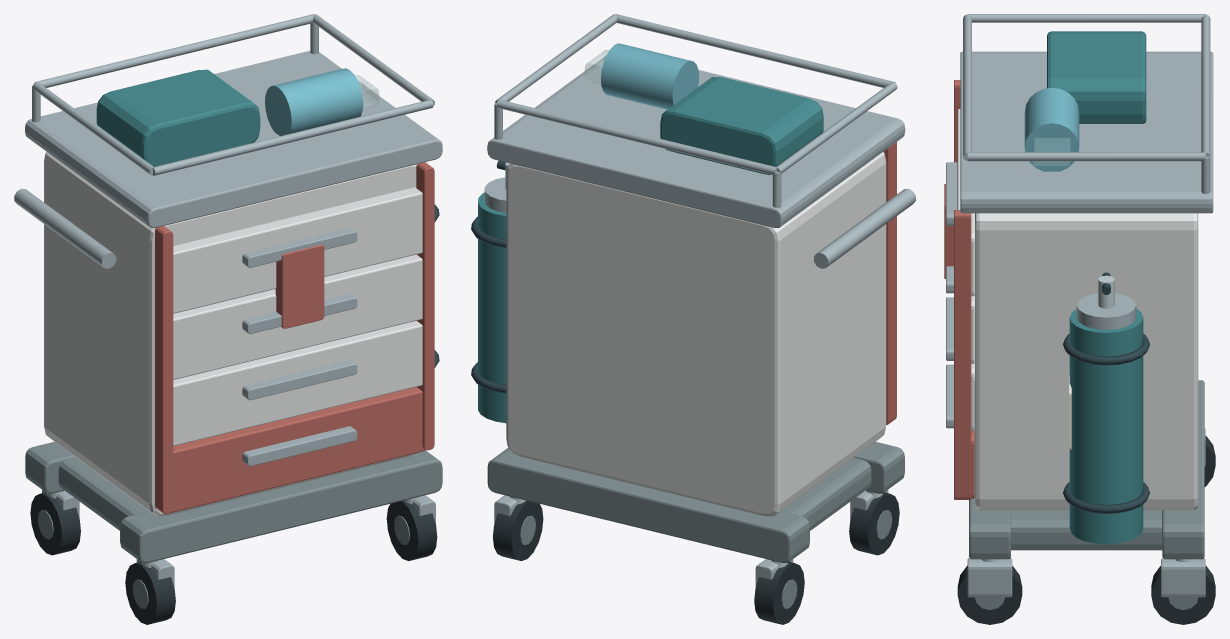
The model's file is resuscitation-cart.glb.
The picture shows the model from 3 angles, left to right: view 1: azimuth 30°, elevation 25°; view 2: azimuth 150°, elevation 25°; view 3: azimuth 270°, elevation 25°; orthographic projection.
Parts seen in each view (by area): view 1: resuscitation-cart-batch (×6), resuscitation-cart; view 2: resuscitation-cart-batch (×7), resuscitation-cart; view 3: resuscitation-cart-batch (×8), resuscitation-cart, mask.
Boxes of the visible parts, x1=… form: resuscitation-cart-batch (×6): x1=14, y1=14, x2=442, y2=624; resuscitation-cart: x1=265, y1=68, x2=363, y2=136; resuscitation-cart-batch (×7): x1=471, y1=14, x2=915, y2=624; resuscitation-cart: x1=601, y1=43, x2=699, y2=109; resuscitation-cart-batch (×8): x1=944, y1=14, x2=1215, y2=624; resuscitation-cart: x1=1024, y1=87, x2=1079, y2=449; mask: x1=1033, y1=138, x2=1070, y2=165.
Size of the model in its own units: 0.9151 by 1.07 by 0.547.
